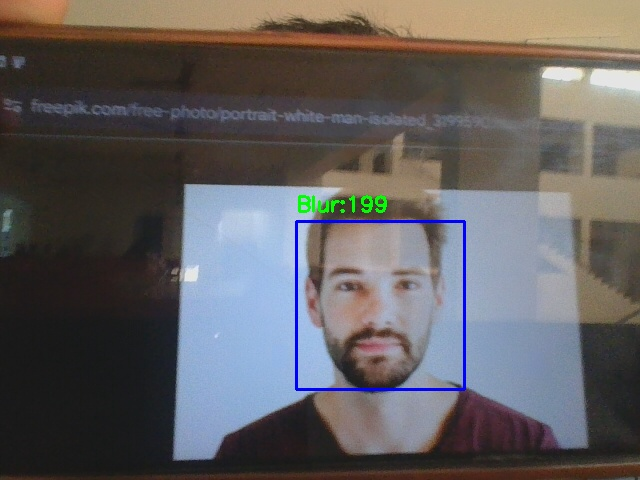fake: (296, 221, 464, 389)
